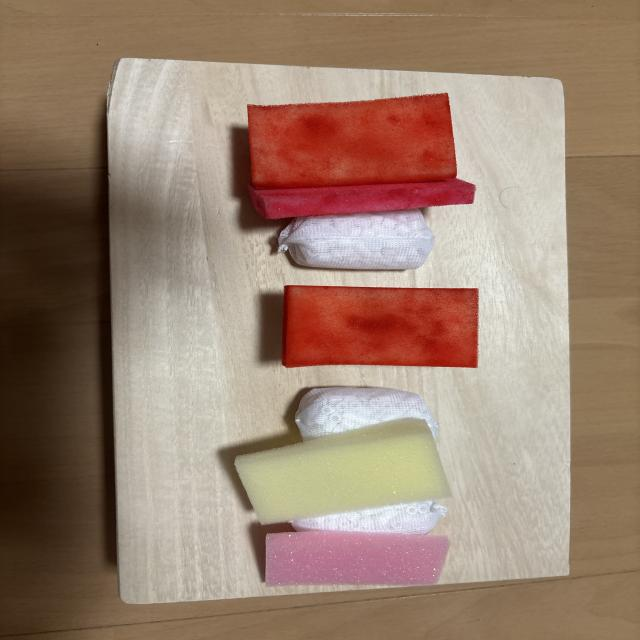NG: (235, 387, 450, 524), (248, 178, 476, 270), (266, 500, 449, 586)
salmon: (247, 93, 457, 191), (282, 285, 479, 368)
